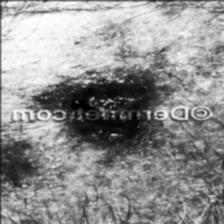Potentially Malignant Skin Tumors: (62, 77, 142, 141)
